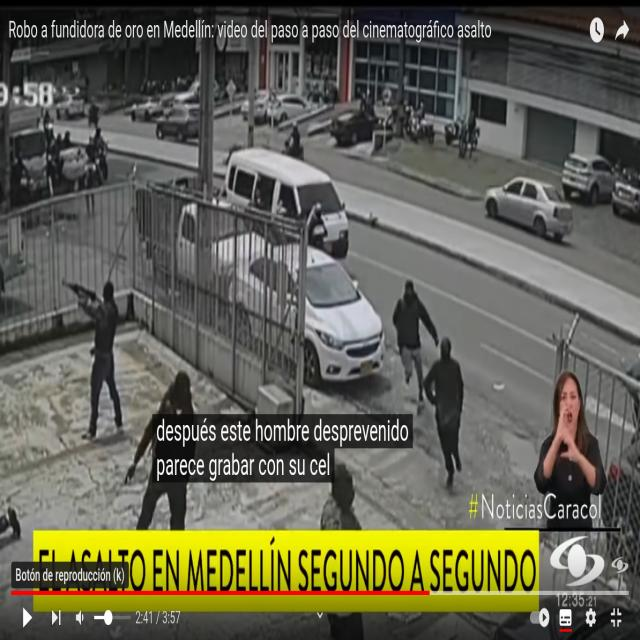FRifle: (58, 268, 100, 314)
